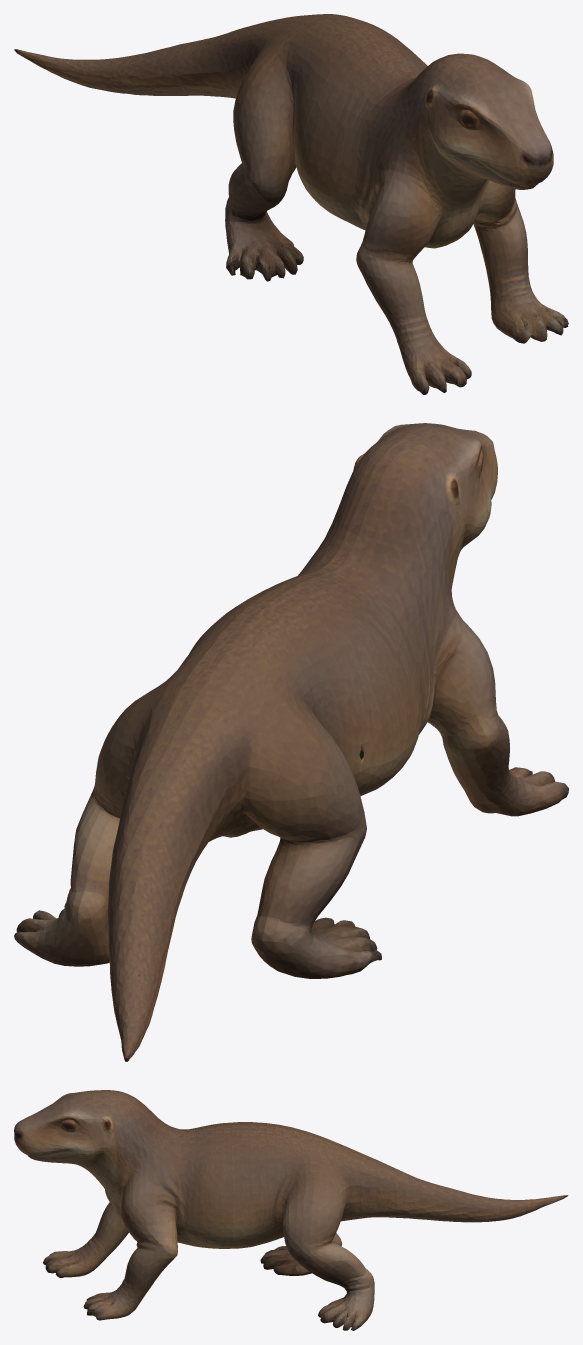
3 renders of one model, top to bottom at view 1: azimuth 30°, elevation 25°; view 2: azimuth 150°, elevation 25°; view 3: azimuth 270°, elevation 25°, orthographic. The views are drawn at different scales.
Parts seen in each view (by area): view 1: world; view 2: world; view 3: world.
Boxes of the visible parts, bbox=[...] form: world: bbox=[14, 14, 568, 394]; world: bbox=[14, 423, 568, 1061]; world: bbox=[14, 1090, 568, 1330].
Bounding box in the file's own units: 0.3507 × 0.3942 × 0.9984.
Materials: 1 (1 with a texture image).
